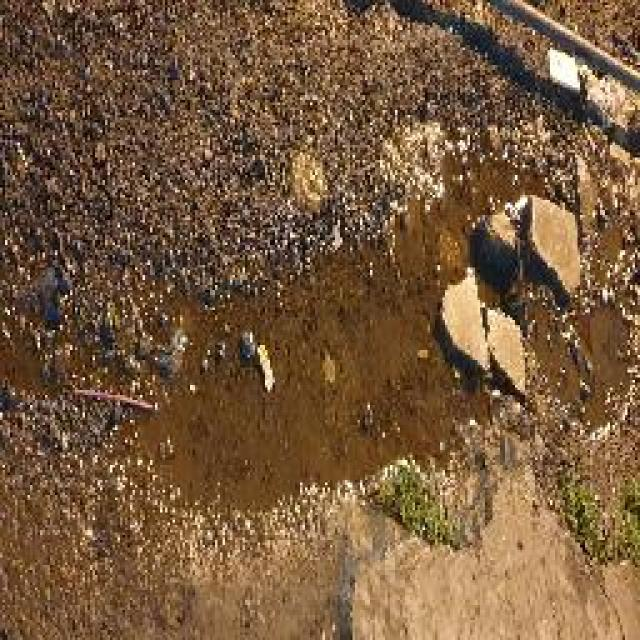stagnation: (4, 121, 639, 538)
